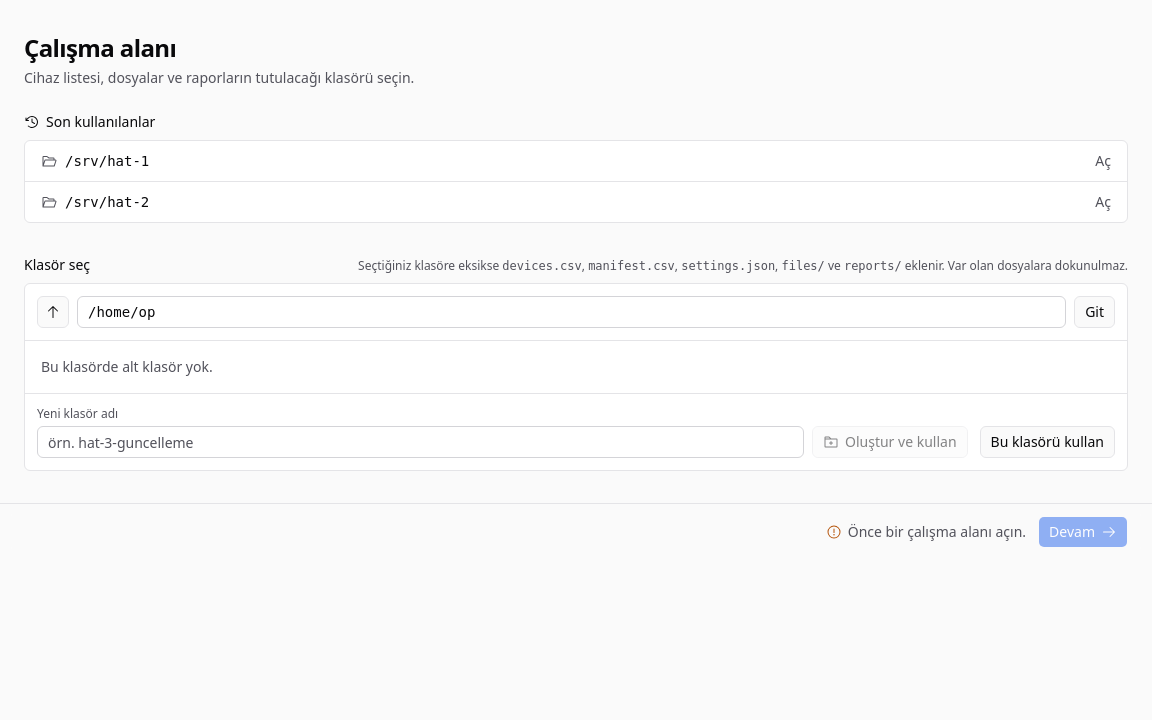
WorkspaceStep › opens a recent workspace without creating anything
Click the button "/srv/hat-2 Aç".
click(107, 202)  # box [25, 182, 1127, 222]
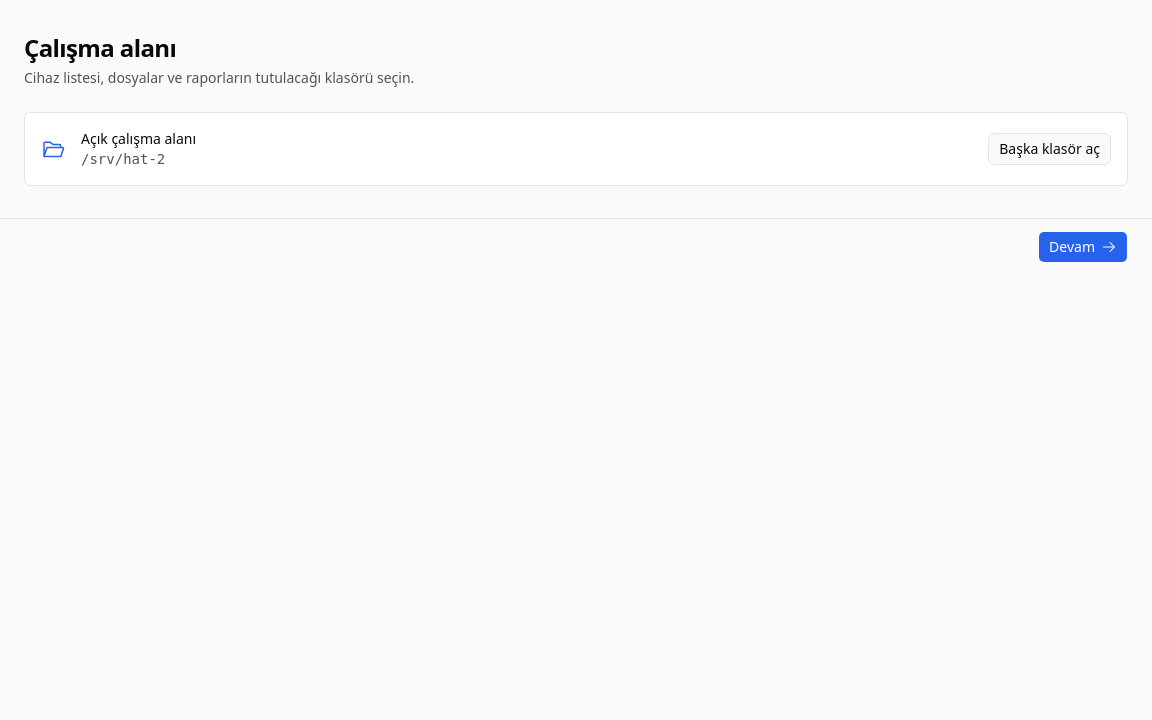
Check: the heading "Açık çalışma alanı" is shown, box [81, 129, 196, 148]
